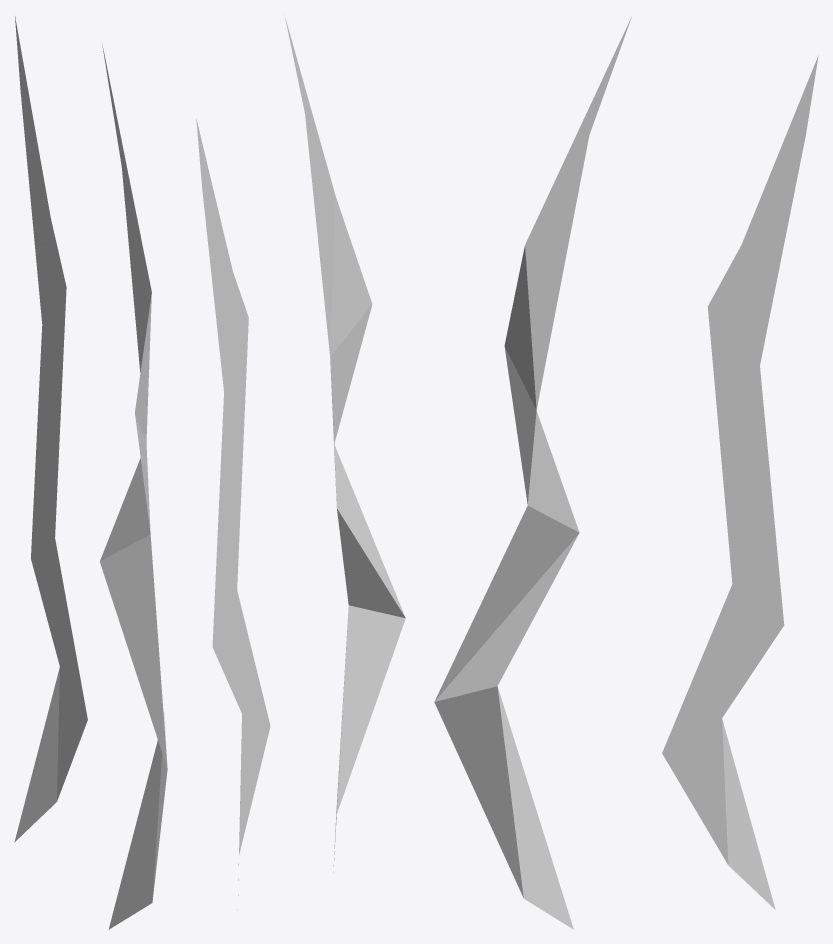
File: drum_waves_low.obj
3 renders of one model, left to right at view 1: azimuth 30°, elevation 25°; view 2: azimuth 150°, elevation 25°; view 3: azimuth 270°, elevation 25°, orthographic. The views are drawn at different scales.
Parts seen in each view (by area): view 1: drum_waves_low; view 2: drum_waves_low; view 3: drum_waves_low.
Boxes of the visible parts, box(x1,y1,x2,y2) form: drum_waves_low: box(14, 16, 167, 929); drum_waves_low: box(196, 17, 405, 910); drum_waves_low: box(434, 16, 818, 929).
Size of the model in its own units: 3.12 by 96.7 by 36.36.
1 material, 1 textured.
